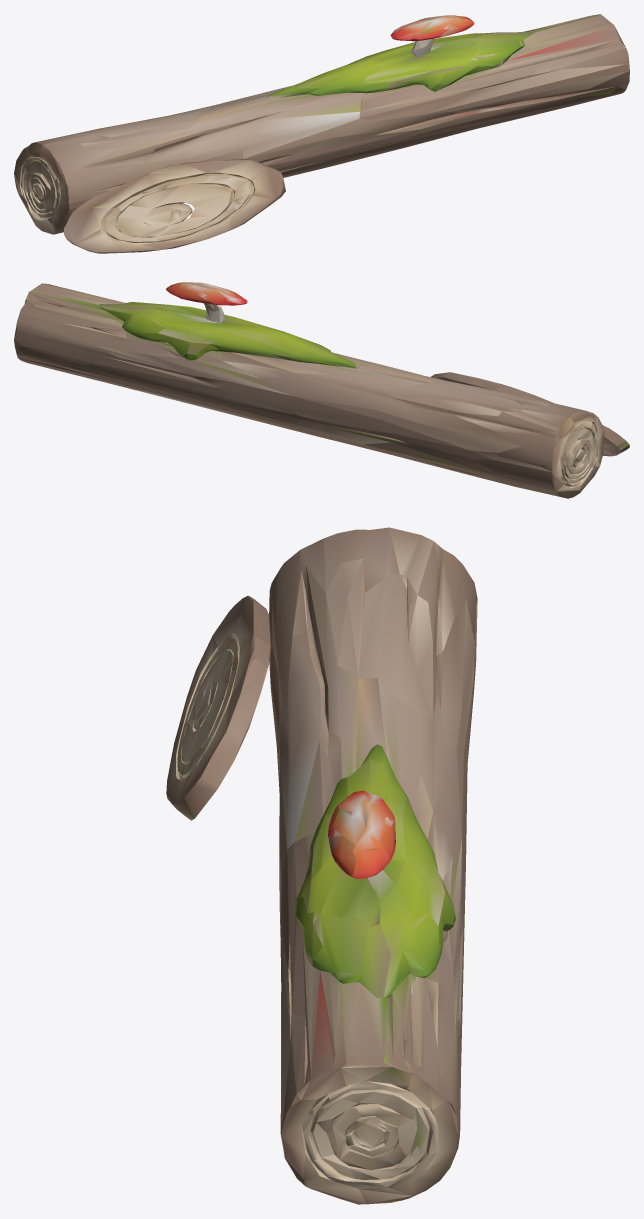
The model's file is log.glb.
The picture shows the model from 3 angles, top to bottom: view 1: azimuth 30°, elevation 25°; view 2: azimuth 150°, elevation 25°; view 3: azimuth 270°, elevation 25°; orthographic projection. The views are drawn at different scales.
Visible parts, largest first — view 1: geometry_0; view 2: geometry_0; view 3: geometry_0.
Boxes of the visible parts, bbox=[...] form: geometry_0: bbox=[14, 14, 629, 253]; geometry_0: bbox=[14, 282, 629, 498]; geometry_0: bbox=[166, 527, 477, 1204].
Size of the model in its own units: 2.5 by 0.5 by 0.6.
